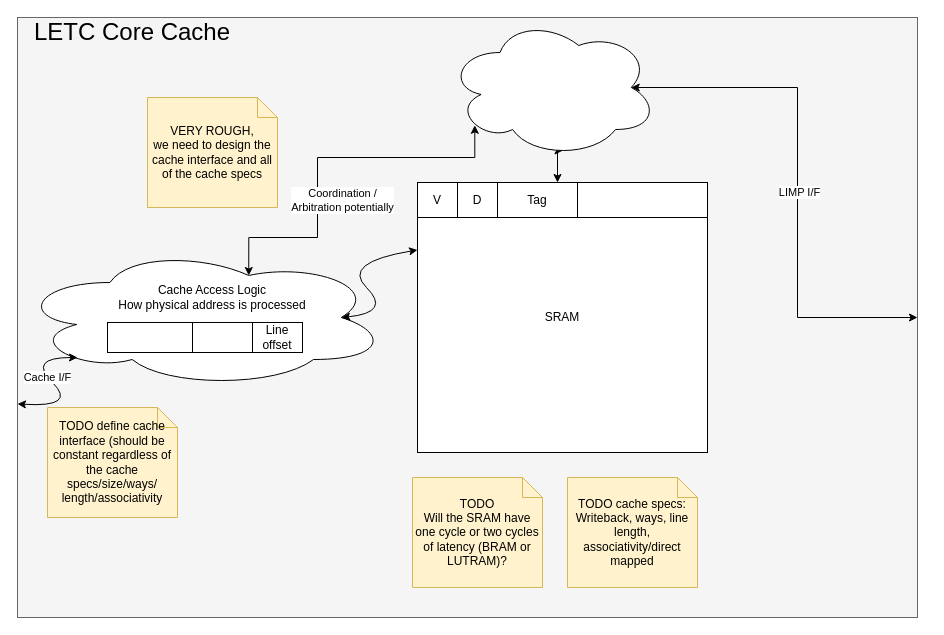
Some shapes in this 944 by 635 pixel diagram are drawn without their labels. Each missing label, with the centre of its shape:
"Cache miss / writeback / writethrough FSM" belongs at [552,87].
"Compared against tag" belongs at [149,337].
"Data" belongs at [642,200].
"SRAM Index" belongs at [222,337].
